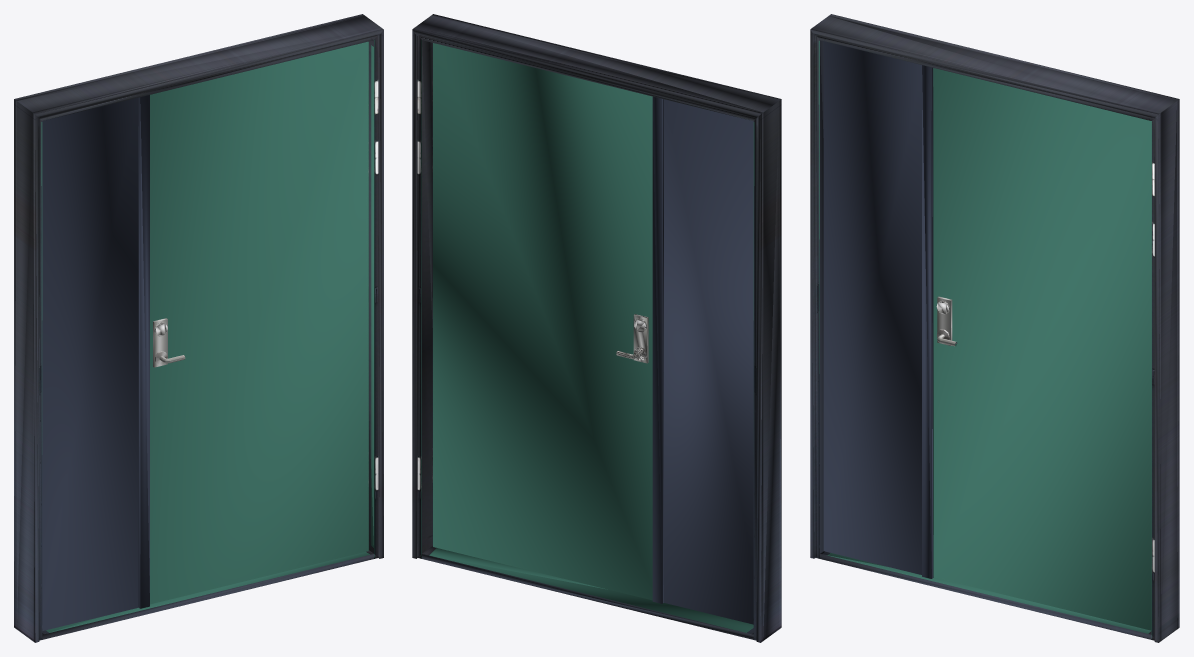
File: TELLUS_arena_SMALL_DOOR_011.FBX
3 views of the same model, side by side, from view 1: azimuth 30°, elevation 25°; view 2: azimuth 150°, elevation 25°; view 3: azimuth 330°, elevation 25° (orthographic).
Visible parts, largest first — view 1: TELLUS_arena_SMALL_DOOR_011; view 2: TELLUS_arena_SMALL_DOOR_011; view 3: TELLUS_arena_SMALL_DOOR_011.
Boxes of the visible parts, left/top/right/bottom form: TELLUS_arena_SMALL_DOOR_011: left=14, top=14, right=383, bottom=642; TELLUS_arena_SMALL_DOOR_011: left=412, top=14, right=781, bottom=642; TELLUS_arena_SMALL_DOOR_011: left=810, top=14, right=1179, bottom=642.
Bounding box in the file's own units: 150 × 17.73 × 218.
